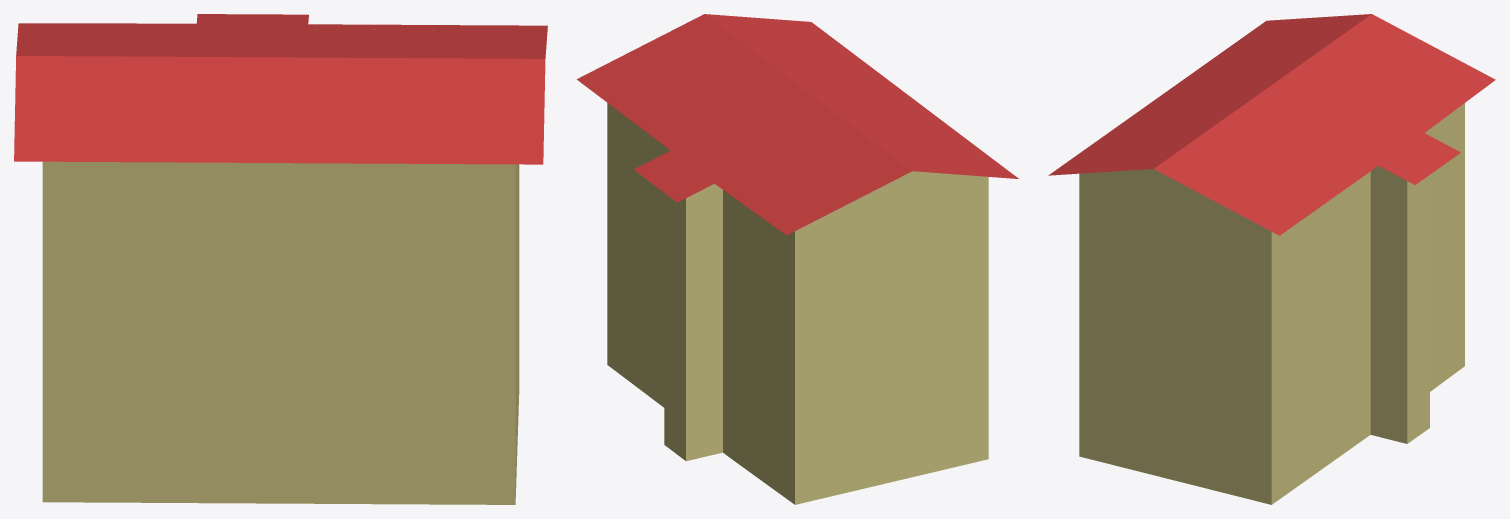
The picture shows the model from 3 angles, left to right: view 1: azimuth 30°, elevation 25°; view 2: azimuth 150°, elevation 25°; view 3: azimuth 270°, elevation 25°; orthographic projection. The views are drawn at different scales.
Visible parts, largest first — view 1: group_5, group_3, group_4; view 2: group_5, group_3, group_4; view 3: group_5, group_3, group_4.
Boxes of the visible parts, x1,y1,x2,y2 form: group_5: [42, 29, 519, 504]; group_3: [14, 14, 545, 164]; group_4: [14, 23, 547, 164]; group_5: [607, 103, 988, 504]; group_3: [607, 14, 987, 235]; group_4: [577, 14, 1018, 183]; group_5: [1079, 103, 1464, 504]; group_3: [1048, 14, 1495, 216]; group_4: [1051, 14, 1423, 235].
Bounding box in the file's own units: 16.66 × 14.79 × 11.57.
